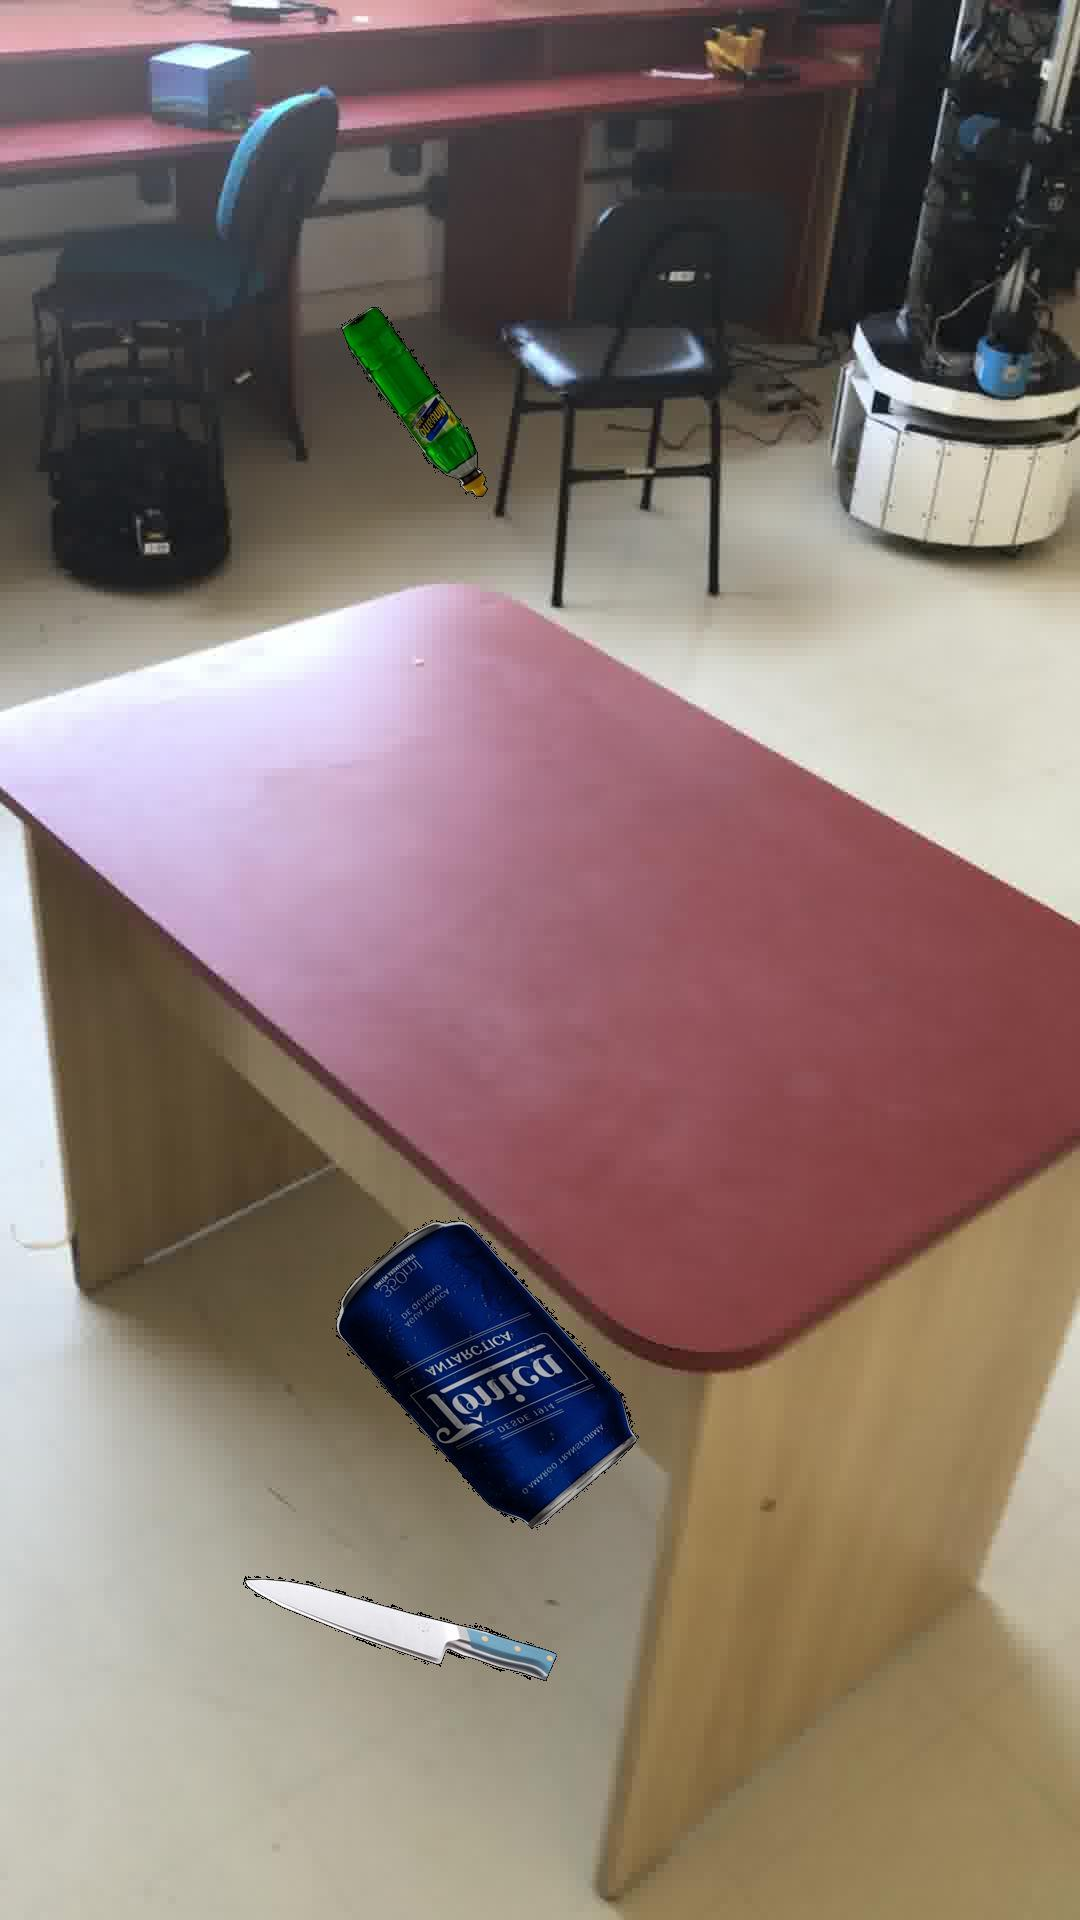cleaner: (340, 306, 487, 496)
knife: (243, 1575, 555, 1680)
tonic: (334, 1218, 637, 1527)
